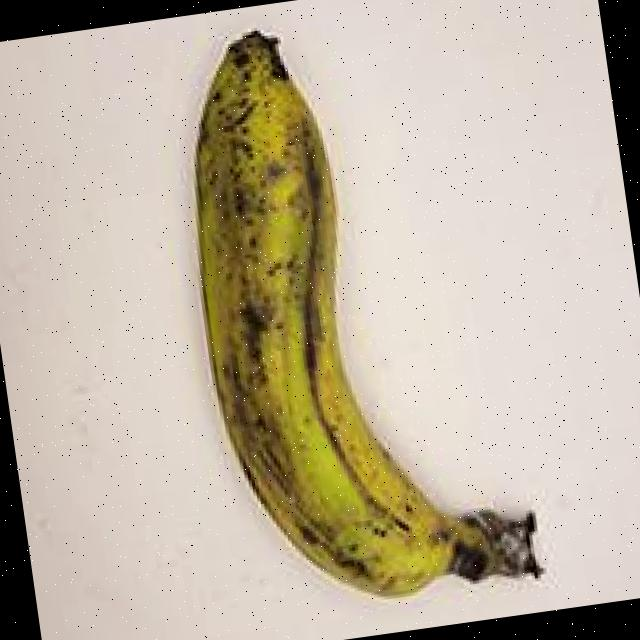Overripe: (116, 0, 569, 640)
